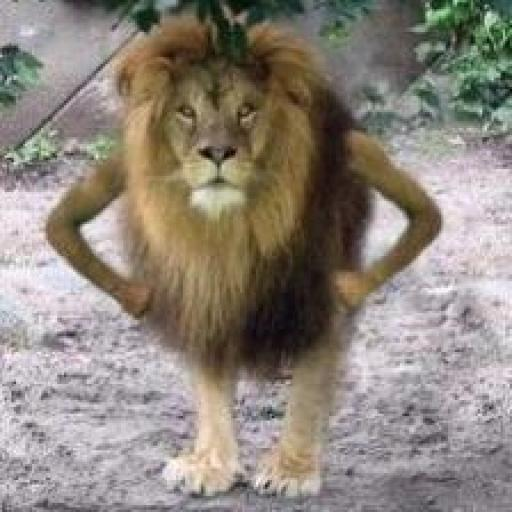lion: (126, 32, 327, 235)
